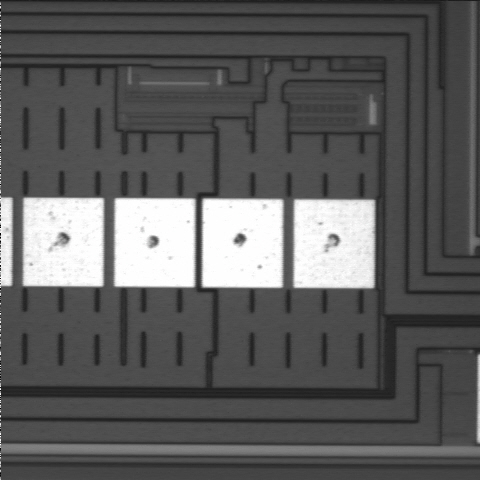pad: (293, 199, 375, 288), (23, 198, 104, 287), (114, 198, 195, 287), (202, 199, 283, 288)
